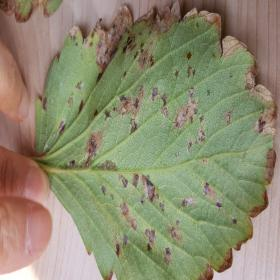Angular Leafspot: (33, 0, 279, 279)
